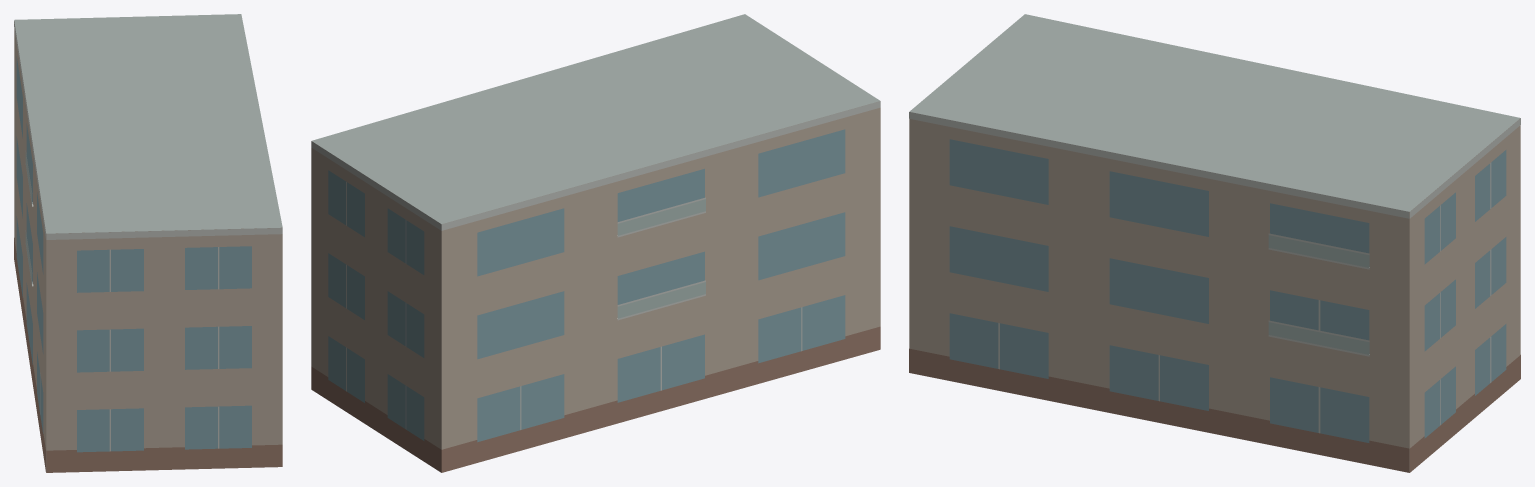
Rendered from survey-upis-32705805.glb.
3 renders of one model, left to right at view 1: azimuth 30°, elevation 25°; view 2: azimuth 150°, elevation 25°; view 3: azimuth 270°, elevation 25°, orthographic. The views are drawn at different scales.
Parts seen in each view (by area): view 1: survey-upis-32705805.tmp; view 2: survey-upis-32705805.tmp; view 3: survey-upis-32705805.tmp.
Part boxes in pixels (<box>): survey-upis-32705805.tmp: <box>14,14,282,472</box>; survey-upis-32705805.tmp: <box>311,14,880,472</box>; survey-upis-32705805.tmp: <box>909,14,1520,472</box>.
Bounding box in the file's own units: 14.88 × 9.15 × 19.44.
